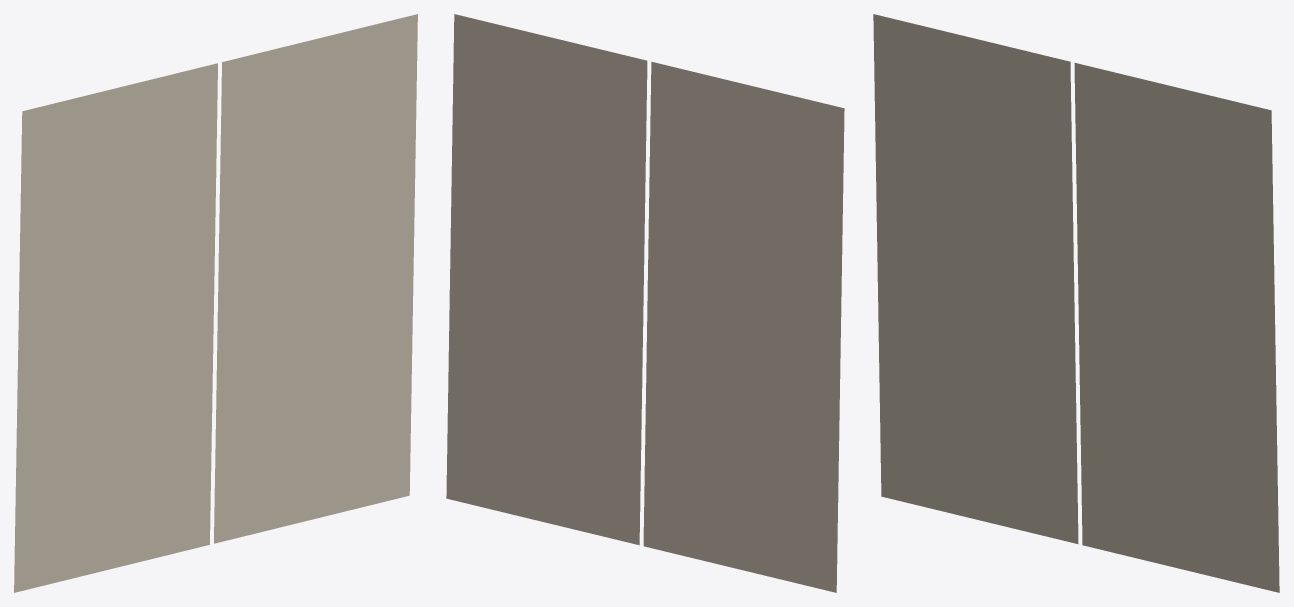
The model's file is cloth-base.glb.
The picture shows the model from 3 angles, left to right: view 1: azimuth 30°, elevation 25°; view 2: azimuth 150°, elevation 25°; view 3: azimuth 330°, elevation 25°; orthographic projection. The views are drawn at different scales.
Bounding box in the file's own units: 0.5348 × 0.6282 × 0.0209.
